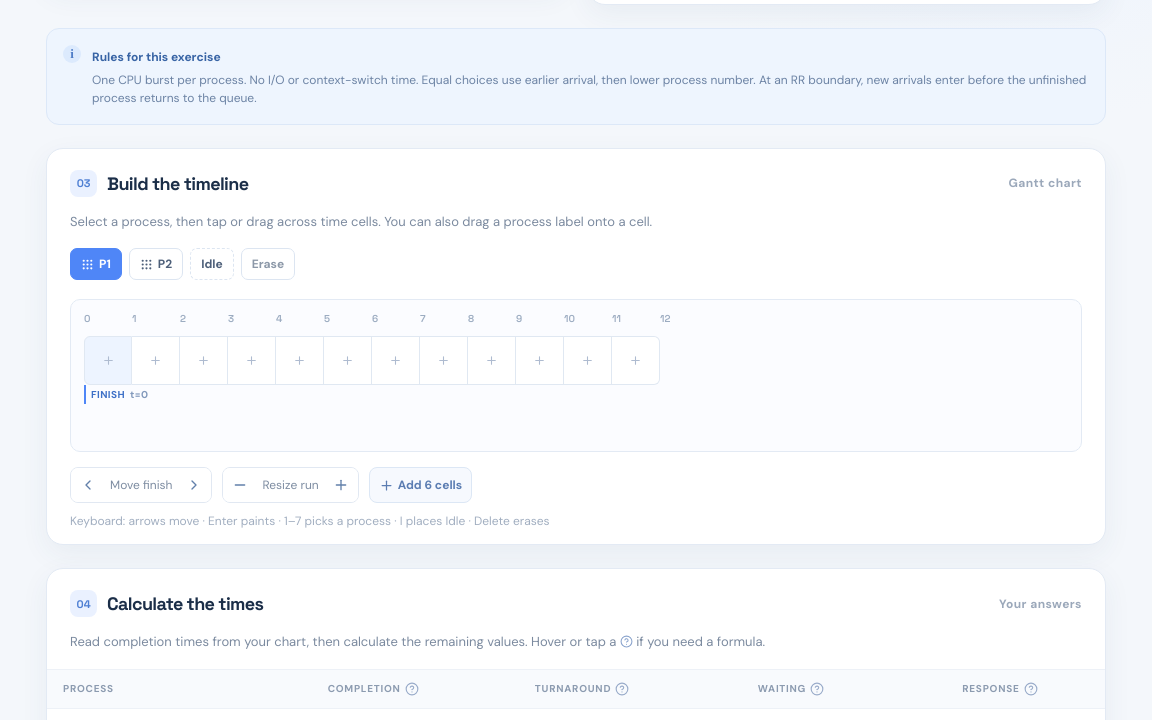
Test: settings, saving, and elapsed time › starts on the first answer edit, pauses while hidden, and resumes on return
(page scrolled)
Step 1. Click the button named "Time 0 to 1: empty" → (108, 361), box [84,336,132,385]
Wait 5000 ms
(page scrolled)
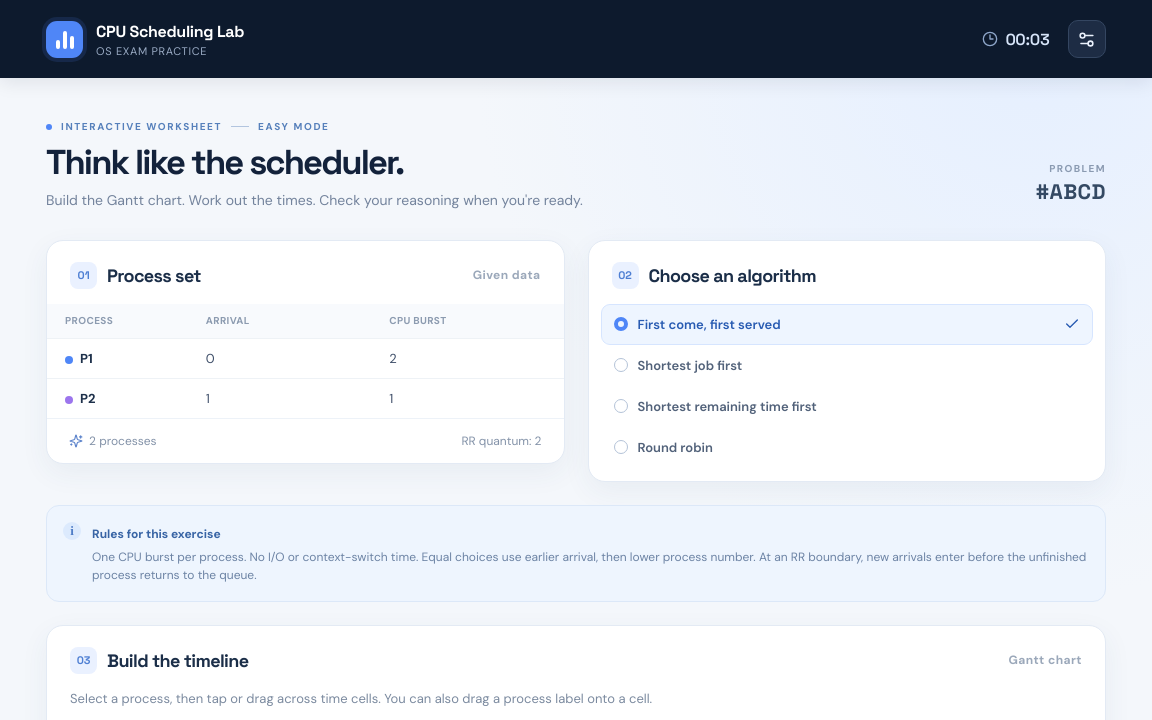
Result: the element named "Elapsed time 00:03" is shown at [982,28,1050,50]
